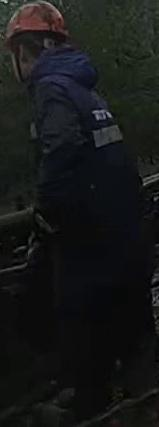gloves: (14, 213, 59, 279)
helmet: (2, 0, 70, 44)
vest: (29, 71, 143, 237)
